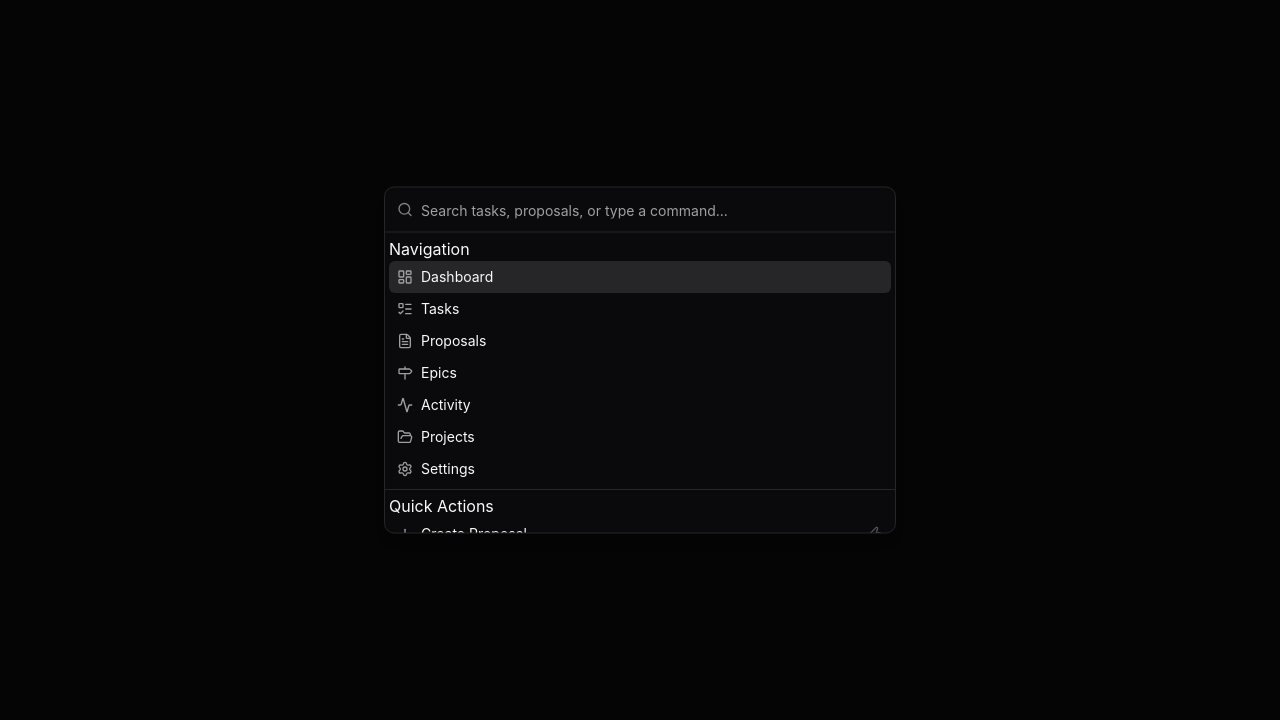
Test: CommandPalette (server FTS) › caps each group at 8 hits (rank order)
Type "cap" into the dropdown with placeholder "Search tasks, proposals, or type a command..." at (652, 210), box left=421, top=188, right=883, bottom=232
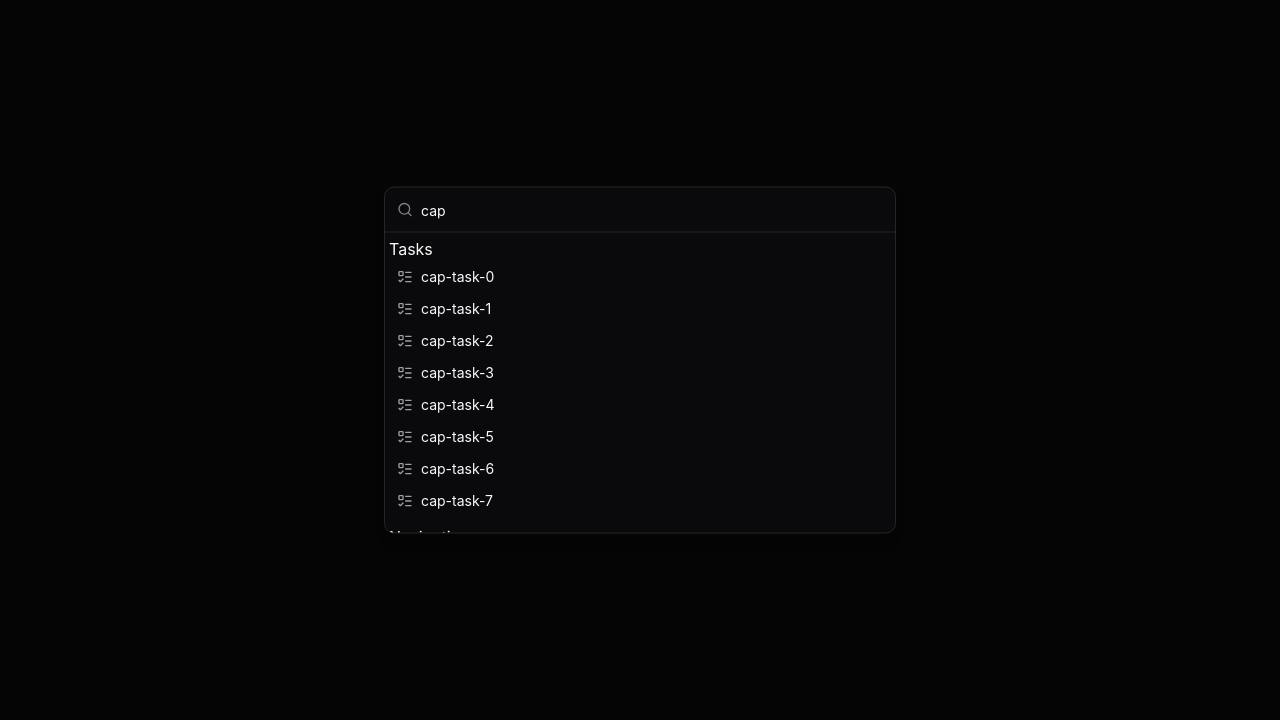
Now the text "cap-task-0" is shown, box left=421, top=268, right=494, bottom=284
Now the text "cap-task-7" is shown, box left=421, top=492, right=493, bottom=508
